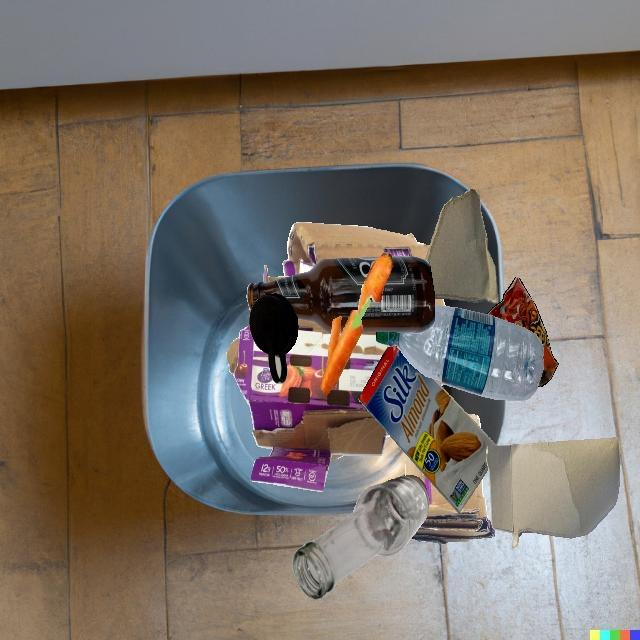biowaste: (320, 253, 393, 396)
cardboard: (241, 332, 388, 492), (358, 345, 497, 513), (486, 437, 620, 548), (338, 316, 438, 459), (425, 189, 499, 304), (405, 454, 495, 544), (283, 222, 420, 276), (420, 258, 436, 316)
glass: (293, 475, 430, 600), (247, 257, 379, 334), (361, 256, 435, 334)
plastic: (376, 305, 544, 401), (249, 293, 298, 383)
trash: (487, 277, 558, 387)
